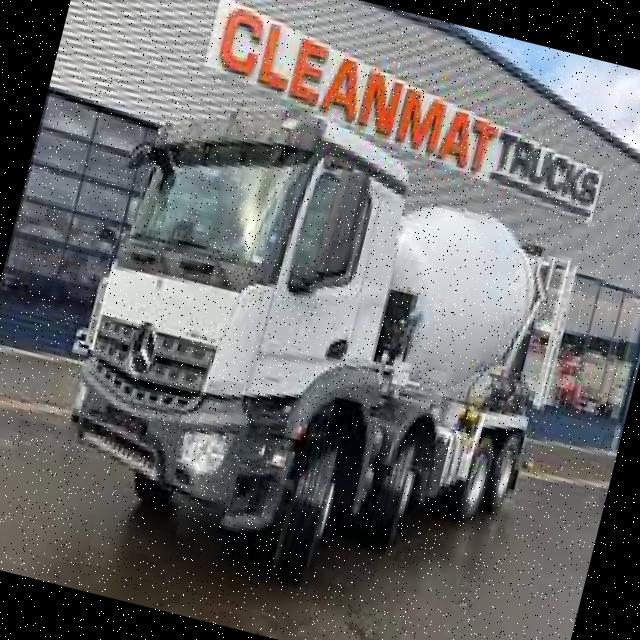Mixer Truck: (32, 66, 606, 637)
